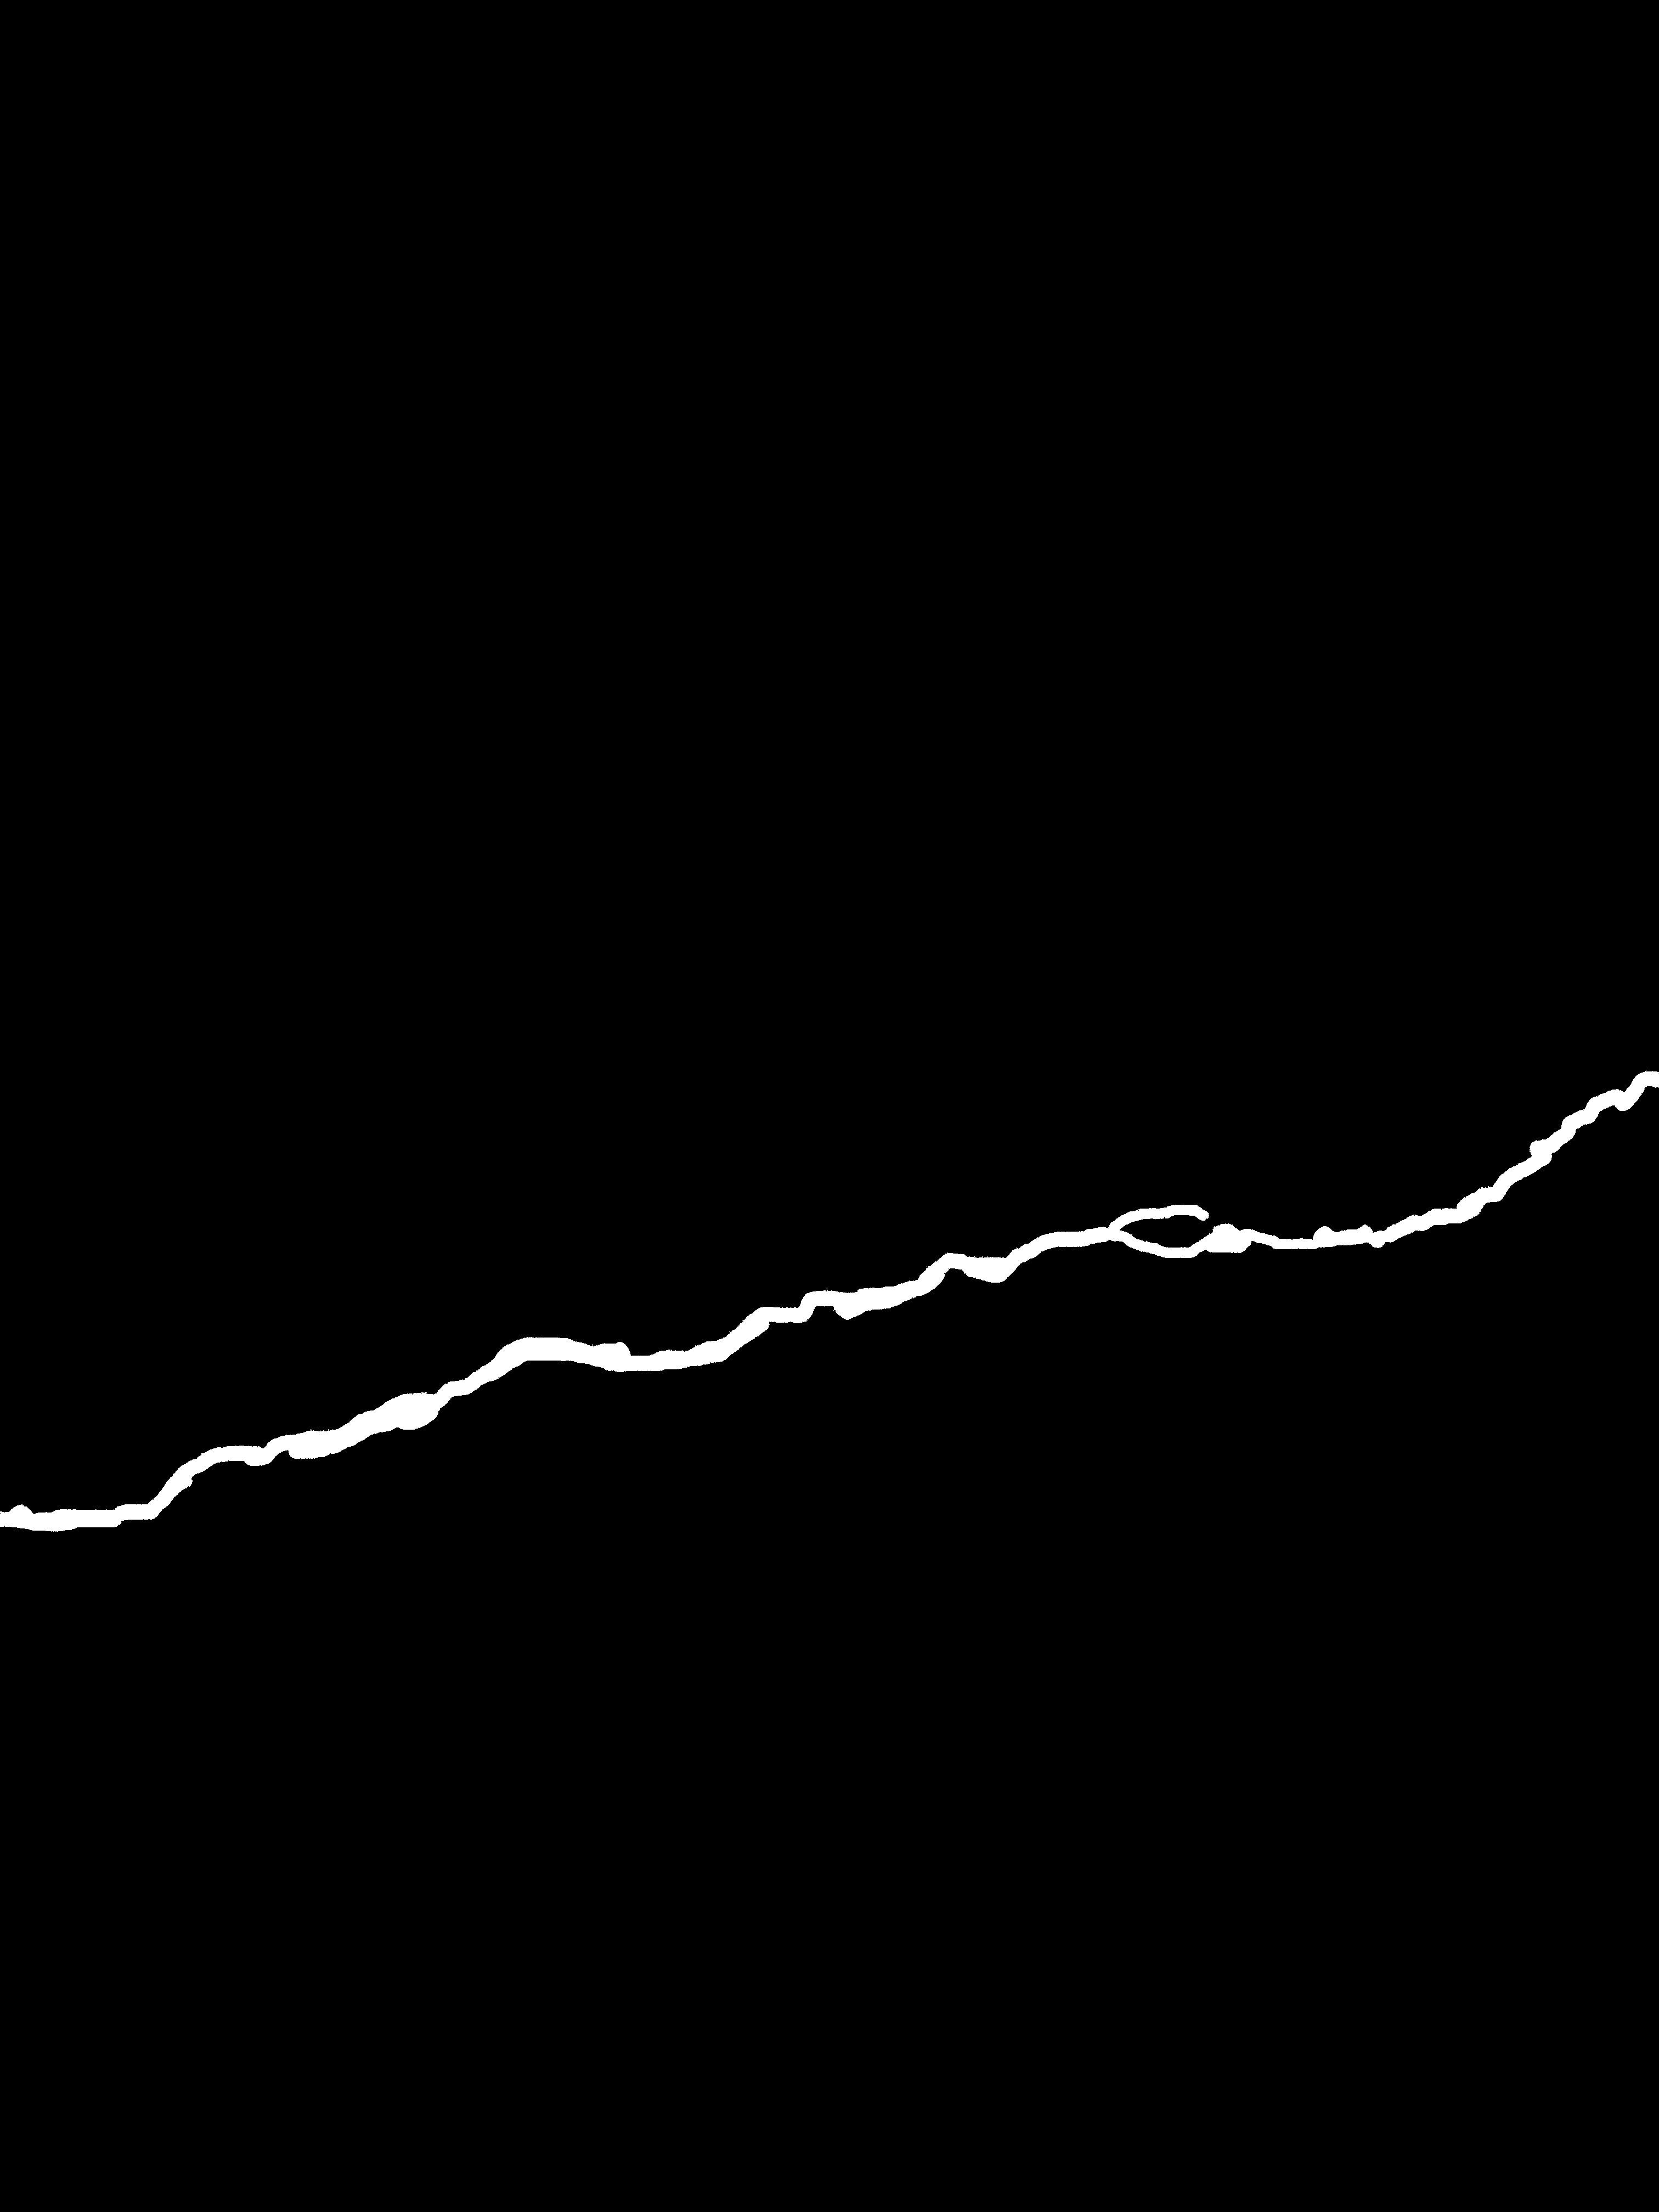Crack: (0, 1050, 1659, 1569)
